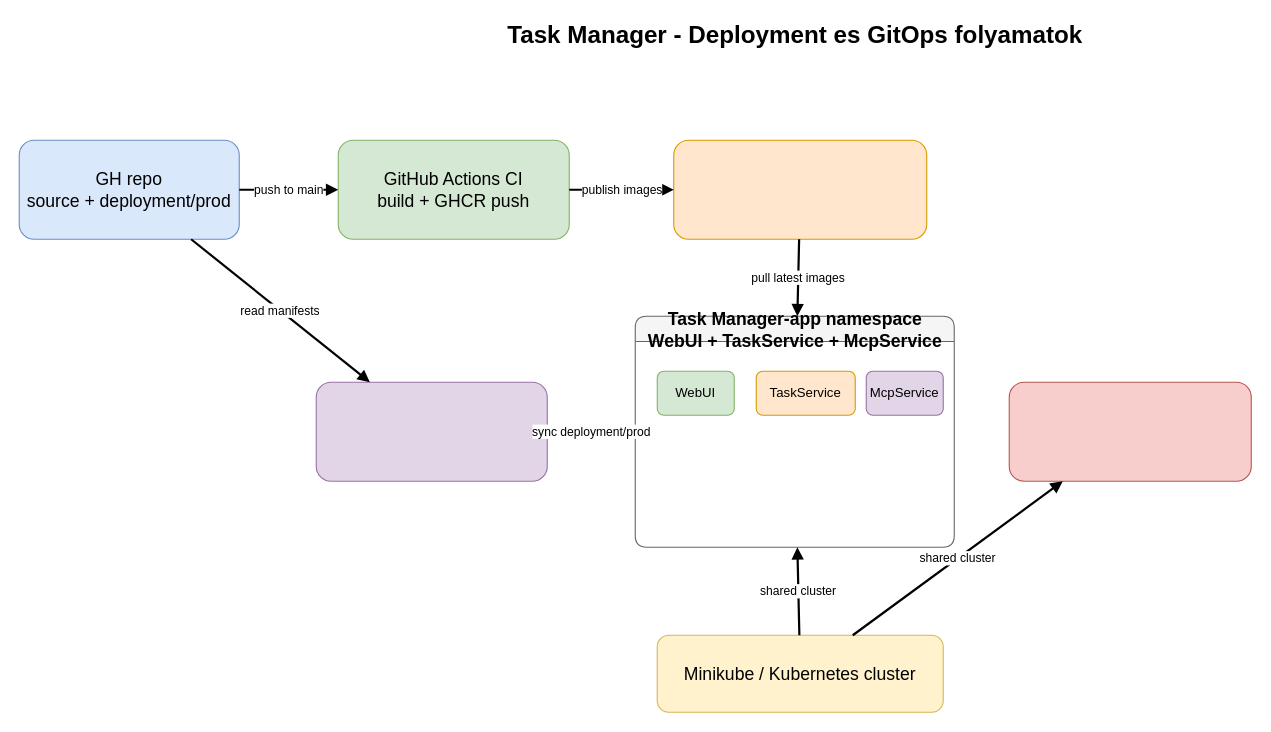
This 1271x732 diagram has some shape labels left out. The shapes that lost their labels are listed below. From the top down, each one's centre as x and y in pixels, then its label:
(800,189): GHCR taskservice / mcpservice / webui
(431,431): ArgoCD Application: taskmanager-prod
(1129,431): taskmanager-infra namespace MongoDB Helm chart
